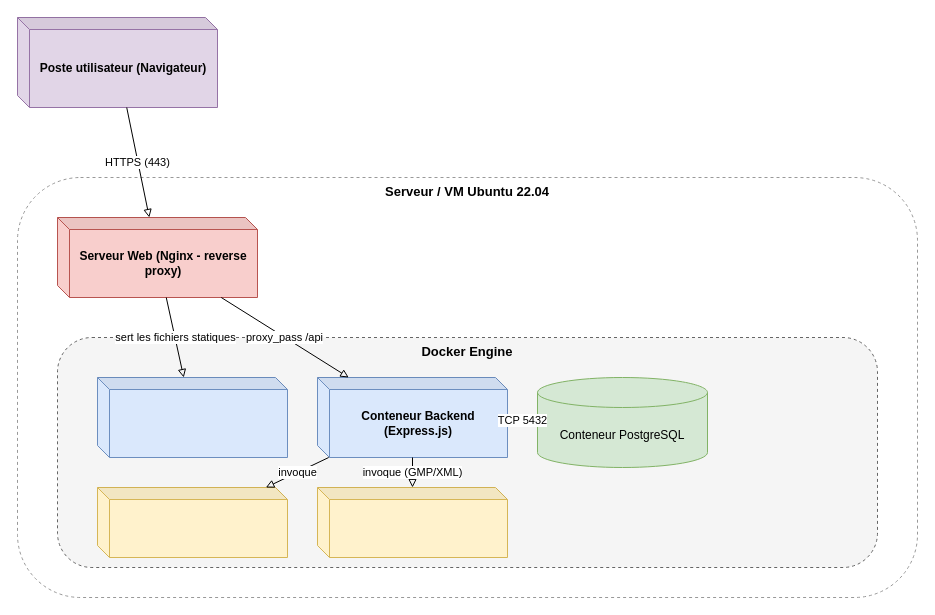
Image size: 935x615. Some labels were removed from this diagram. Here are the shapes that lost their labels. From the top down, the centre of each, then its label:
At pixel 192 417: "Conteneur Frontend (React)".
At pixel 192 522: "Conteneur Nmap".
At pixel 412 522: "Conteneur Greenbone".
